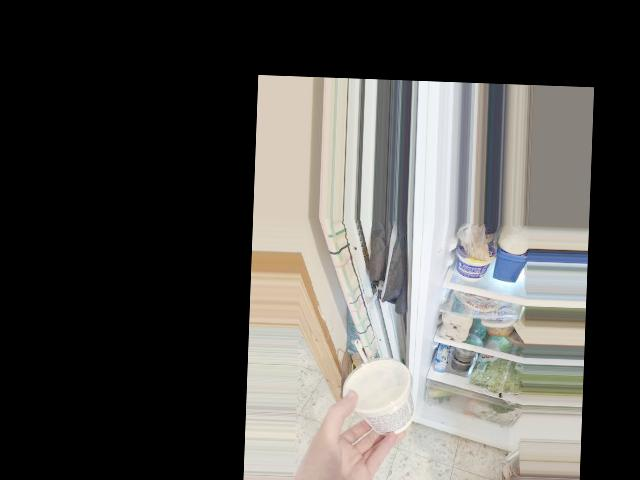cotage: (333, 359, 414, 441)
